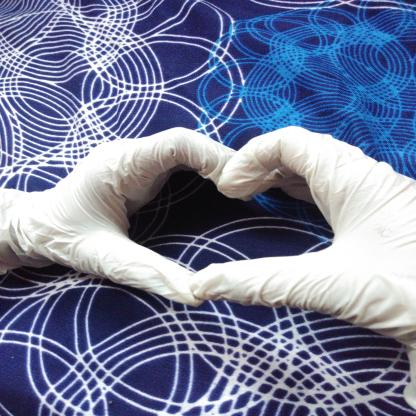gloved_hand: (189, 124, 412, 350), (0, 120, 248, 312)
